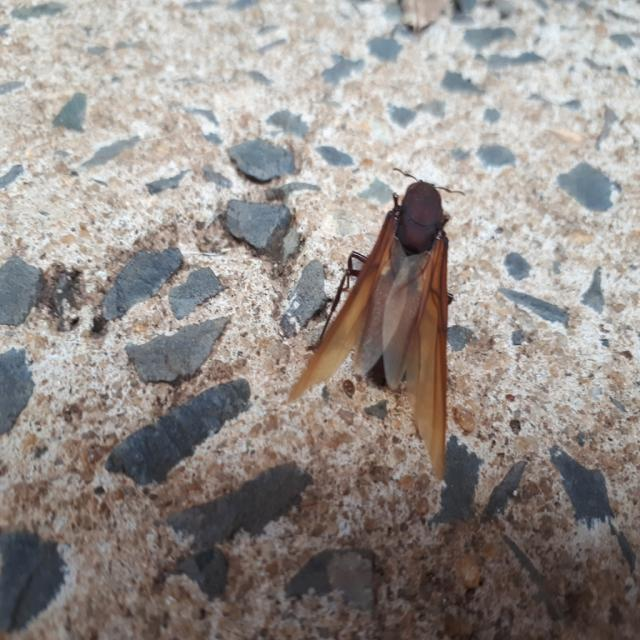Alive-Female-Alate: (286, 167, 465, 484)
